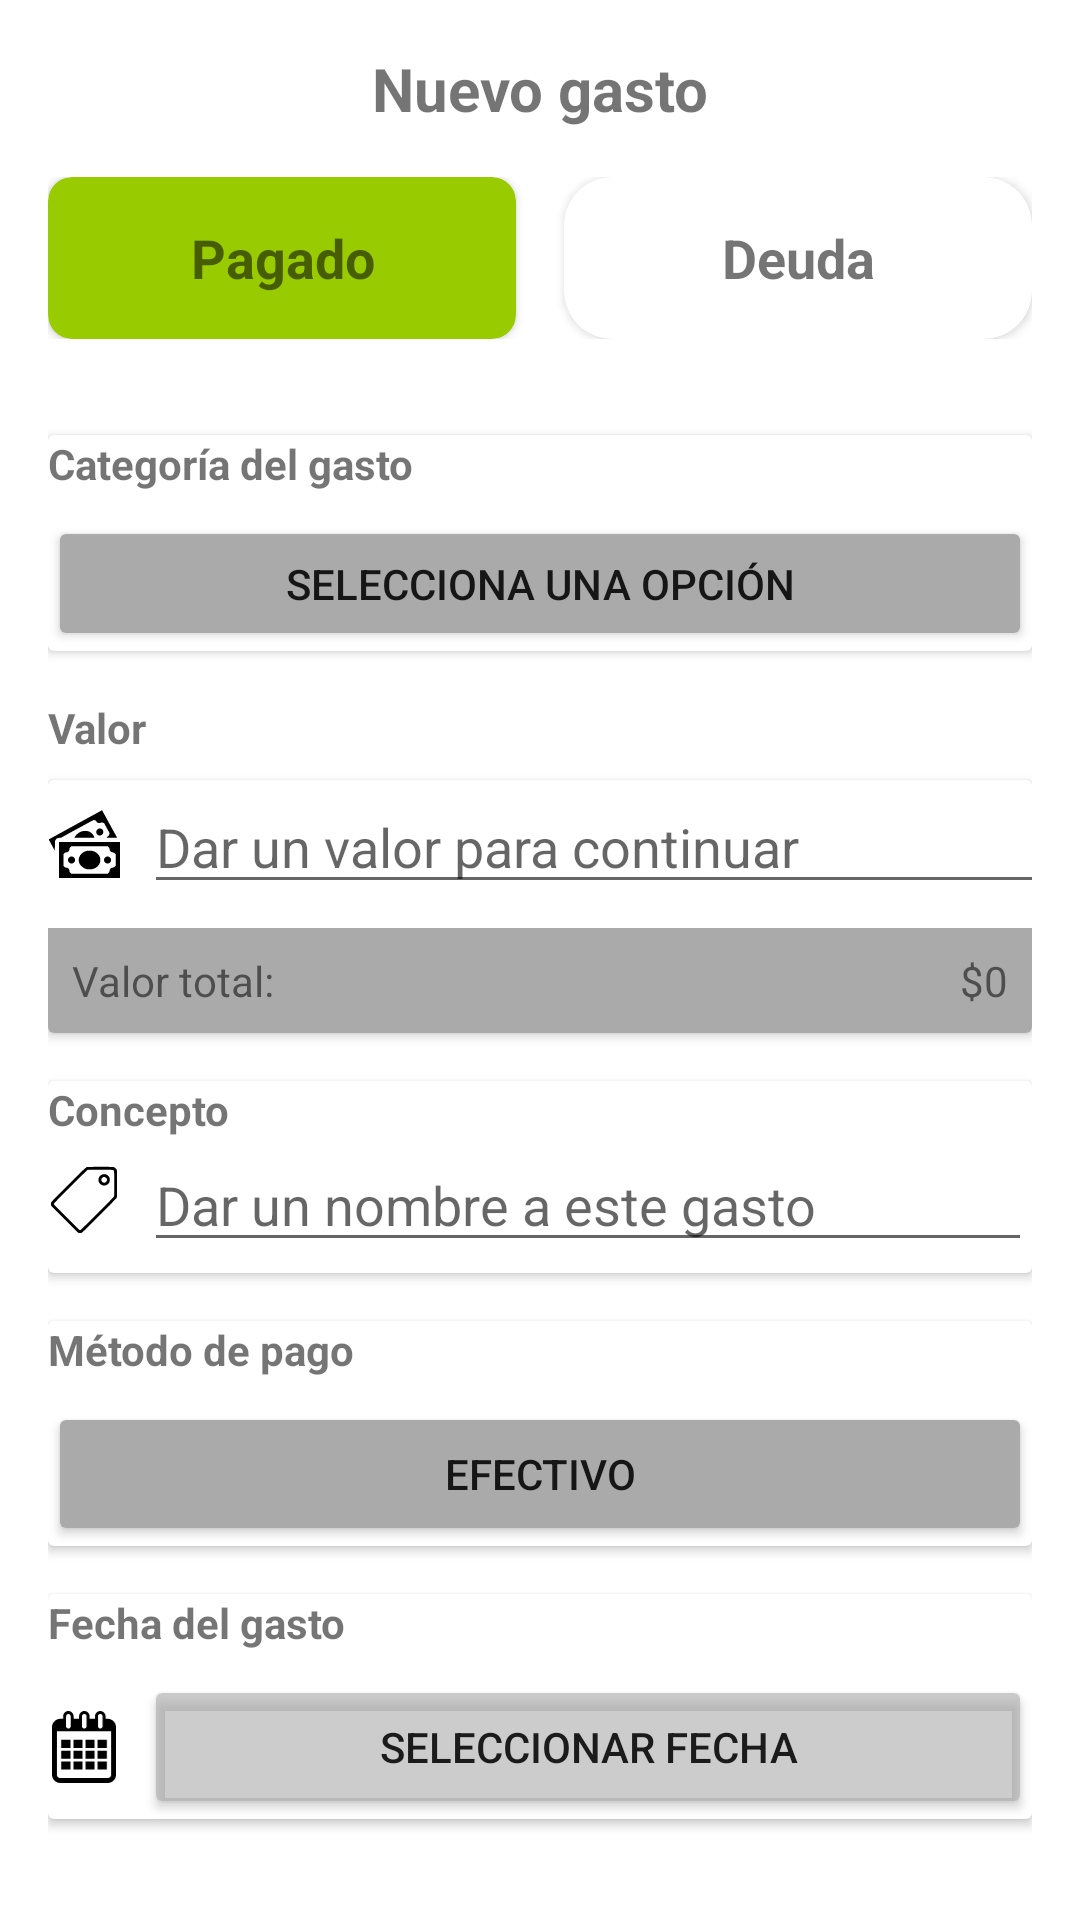

Icons on this 1080 × 1920 Android screen, each with its box as (x1, y1, x2, y2):
calendario: (52, 1711, 116, 1783)
etiqueta: (51, 1166, 117, 1233)
money: (49, 810, 120, 878)
